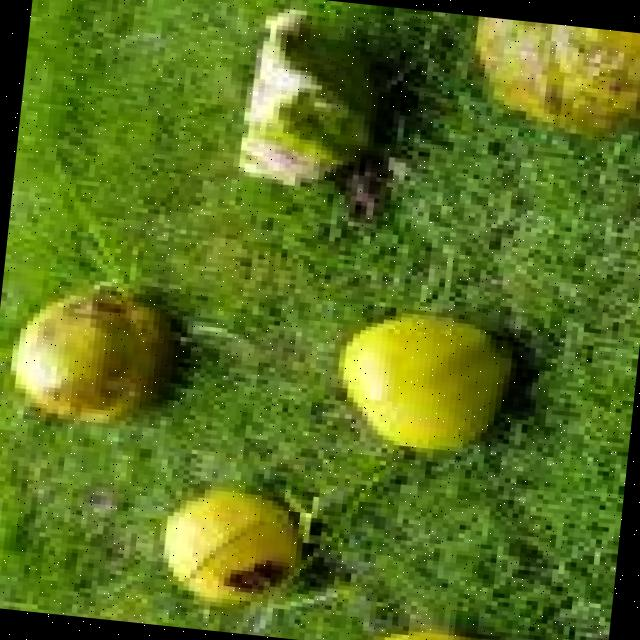Bad_Guava 0 day: (243, 7, 385, 185), (13, 280, 186, 425), (481, 15, 640, 130), (167, 484, 309, 608)
Good_Guava 5-7 days: (340, 314, 525, 456)
